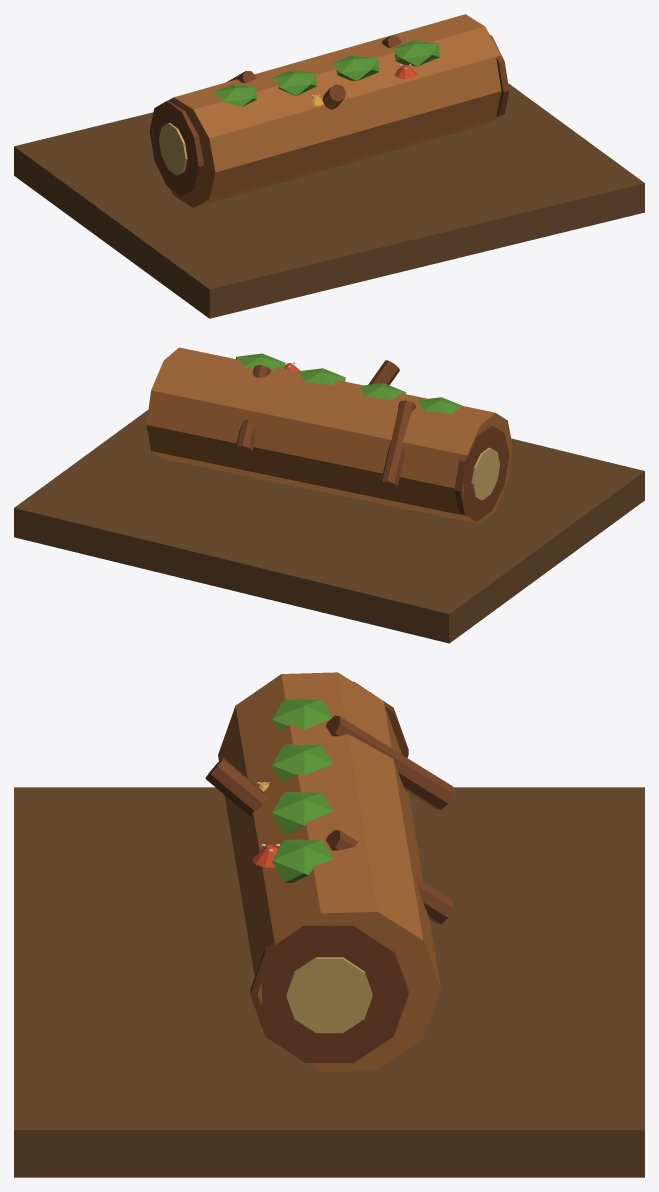
The model's file is fallen_log.glb.
3 renders of one model, top to bottom at view 1: azimuth 30°, elevation 25°; view 2: azimuth 150°, elevation 25°; view 3: azimuth 270°, elevation 25°, orthographic. The views are drawn at different scales.
Parts seen in each view (by area): view 1: TerrainBase, FallenLog, LogCut, GrowthRing, LogMoss.003, LogMoss.002, LogMoss.001, LogMoss, LogCut.001; view 2: TerrainBase, FallenLog, LogCut, BrokenBranch, GrowthRing, BrokenBranch.002, LogMoss.002, LogMoss.001, LogMoss.003, LogMoss, BrokenBranch.001; view 3: TerrainBase, FallenLog, LogCut.001, GrowthRing.001, BrokenBranch, LogMoss.003, BrokenBranch.001, LogMoss.002, LogMoss.001, LogMoss, BrokenBranch.002.
Boxes of the visible parts, x1,y1,x2,y2 form: TerrainBase: (14, 83, 644, 318); FallenLog: (151, 14, 501, 207); LogCut: (149, 100, 204, 196); GrowthRing: (159, 123, 187, 175); LogMoss.003: (392, 40, 439, 66); LogMoss.002: (331, 55, 379, 81); LogMoss.001: (271, 70, 316, 95); LogMoss: (213, 84, 256, 106); LogCut.001: (490, 35, 509, 120); TerrainBase: (14, 410, 644, 643); FallenLog: (146, 347, 512, 523); LogCut: (454, 425, 509, 521); BrokenBranch: (380, 400, 416, 489); GrowthRing: (471, 447, 499, 500); BrokenBranch.002: (235, 365, 271, 454); LogMoss.002: (297, 368, 345, 384); LogMoss.001: (359, 383, 406, 399); LogMoss.003: (236, 353, 285, 370); LogMoss: (417, 397, 461, 413); BrokenBranch.001: (368, 360, 399, 385); TerrainBase: (14, 787, 644, 1177); FallenLog: (218, 672, 440, 1071); LogCut.001: (250, 923, 408, 1062); GrowthRing.001: (286, 957, 372, 1033); BrokenBranch: (326, 715, 453, 809); LogMoss.003: (272, 839, 332, 882); BrokenBranch.001: (205, 758, 267, 816); LogMoss.002: (272, 792, 332, 835); LogMoss.001: (272, 744, 332, 781); LogMoss: (272, 699, 332, 730); BrokenBranch.002: (326, 830, 453, 923).
Bounding box in the file's own units: 9 × 2.77 × 7.
